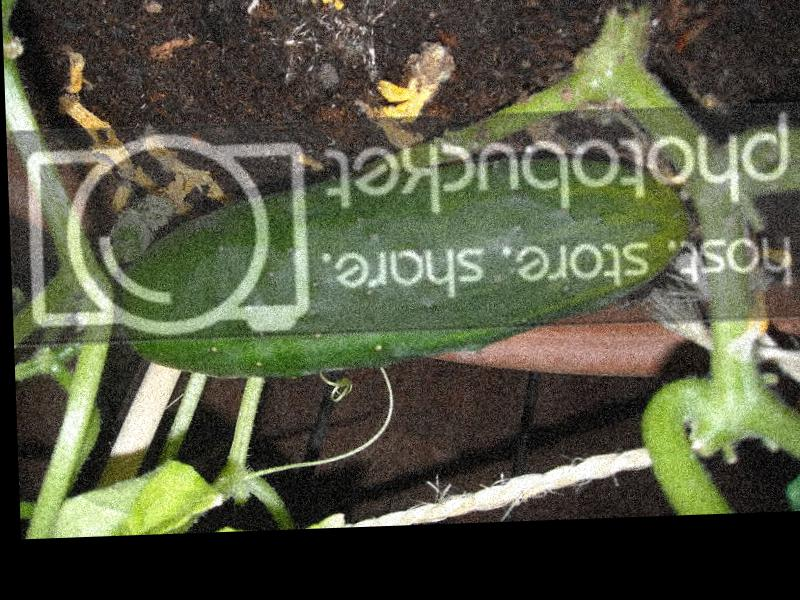Cucumber: (114, 148, 692, 381)
